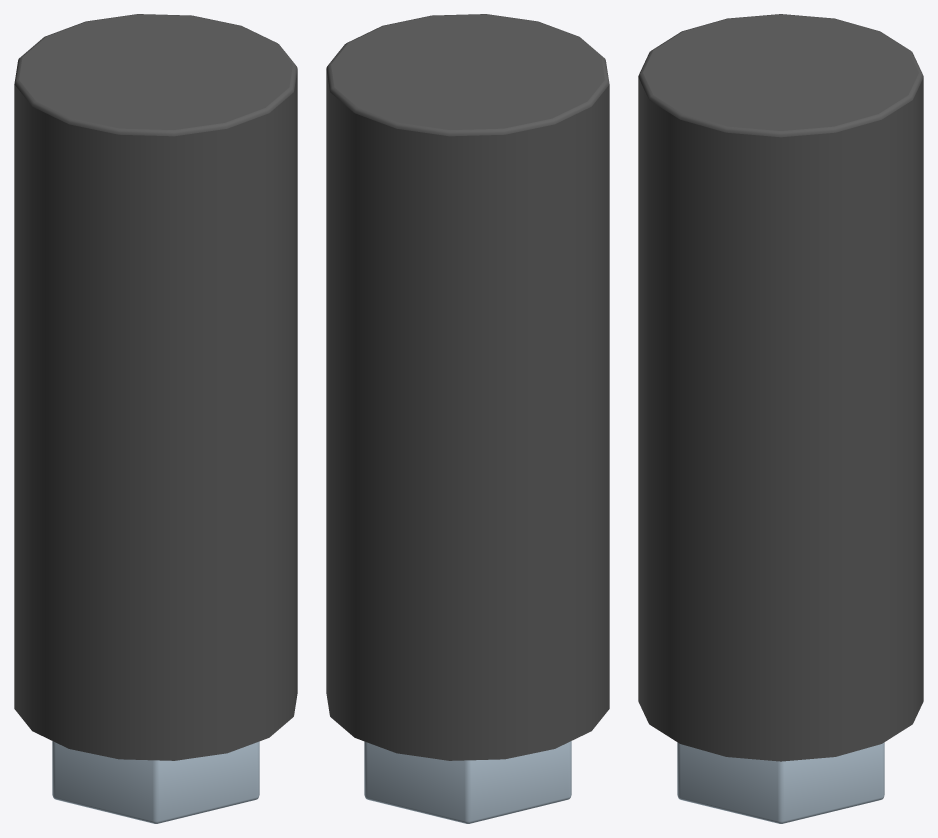
Rendered from Metal Posts.fbx.
The picture shows the model from 3 angles, left to right: view 1: azimuth 30°, elevation 25°; view 2: azimuth 150°, elevation 25°; view 3: azimuth 270°, elevation 25°; orthographic projection.
Visible parts, largest first — view 1: Post - Metal - 1"3/16 - Hex - with 1"1/16 Sleeve; view 2: Post - Metal - 1"3/16 - Hex - with 1"1/16 Sleeve; view 3: Post - Metal - 1"3/16 - Hex - with 1"1/16 Sleeve.
Part boxes in pixels (bbox=[...]): Post - Metal - 1"3/16 - Hex - with 1"1/16 Sleeve: bbox=[14, 14, 297, 823]; Post - Metal - 1"3/16 - Hex - with 1"1/16 Sleeve: bbox=[326, 14, 609, 823]; Post - Metal - 1"3/16 - Hex - with 1"1/16 Sleeve: bbox=[638, 14, 923, 823].
Bounding box in the file's own units: 1.11 × 3.02 × 1.11.
